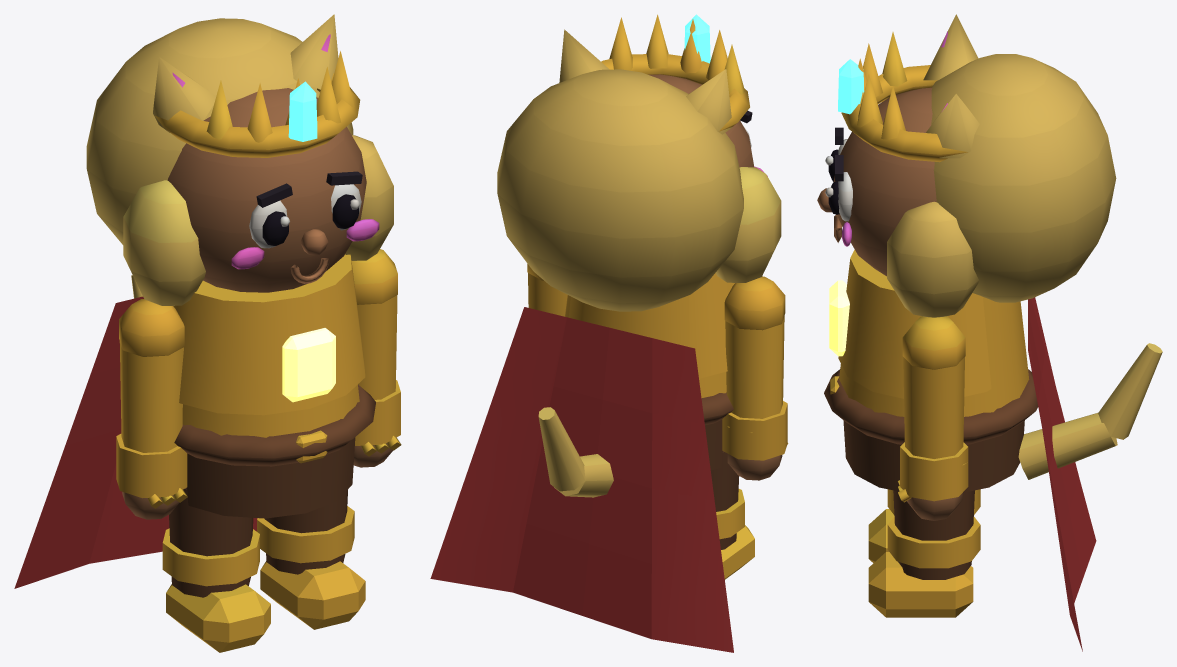
Rendered from hero_leo.glb.
The picture shows the model from 3 angles, left to right: view 1: azimuth 30°, elevation 25°; view 2: azimuth 150°, elevation 25°; view 3: azimuth 270°, elevation 25°; orthographic projection. The views are drawn at different scales.
Parts seen in each view (by area): view 1: body_t0_palette, arml_t0_palette, legl_t0_palette, legr_t0_palette, armr_t0_palette, body_t0_glow_gold, body_t0_crystal; view 2: body_t0_palette, arml_t0_palette, legl_t0_palette, armr_t0_palette, body_t0_crystal; view 3: body_t0_palette, armr_t0_palette, legr_t0_palette, body_t0_glow_gold, legl_t0_palette, body_t0_crystal.
Boxes of the visible parts, x1,y1,x2,y2 form: body_t0_palette: (14,14,393,588); arml_t0_palette: (116,299,187,519); legl_t0_palette: (162,488,270,652); legr_t0_palette: (257,490,365,629); armr_t0_palette: (351,249,401,467); body_t0_glow_gold: (282,328,335,402); body_t0_crystal: (288,81,317,141); body_t0_palette: (430,14,781,652); arml_t0_palette: (722,276,788,480); legl_t0_palette: (711,451,754,579); armr_t0_palette: (527,264,567,316); body_t0_crystal: (684,14,710,63); body_t0_palette: (817,14,1162,651); armr_t0_palette: (898,316,968,520); legr_t0_palette: (868,490,980,617); body_t0_glow_gold: (829,280,849,356); legl_t0_palette: (868,489,980,562); body_t0_crystal: (838,59,864,114).
Bounding box in the file's own units: 0.32 × 0.5344 × 0.3132.
